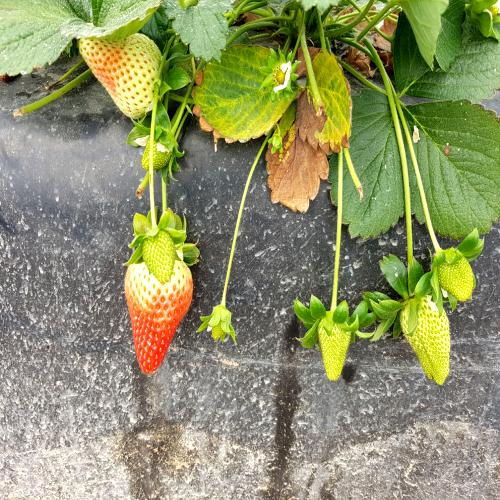partially-ripe: (127, 237, 199, 390), (79, 19, 165, 122)
